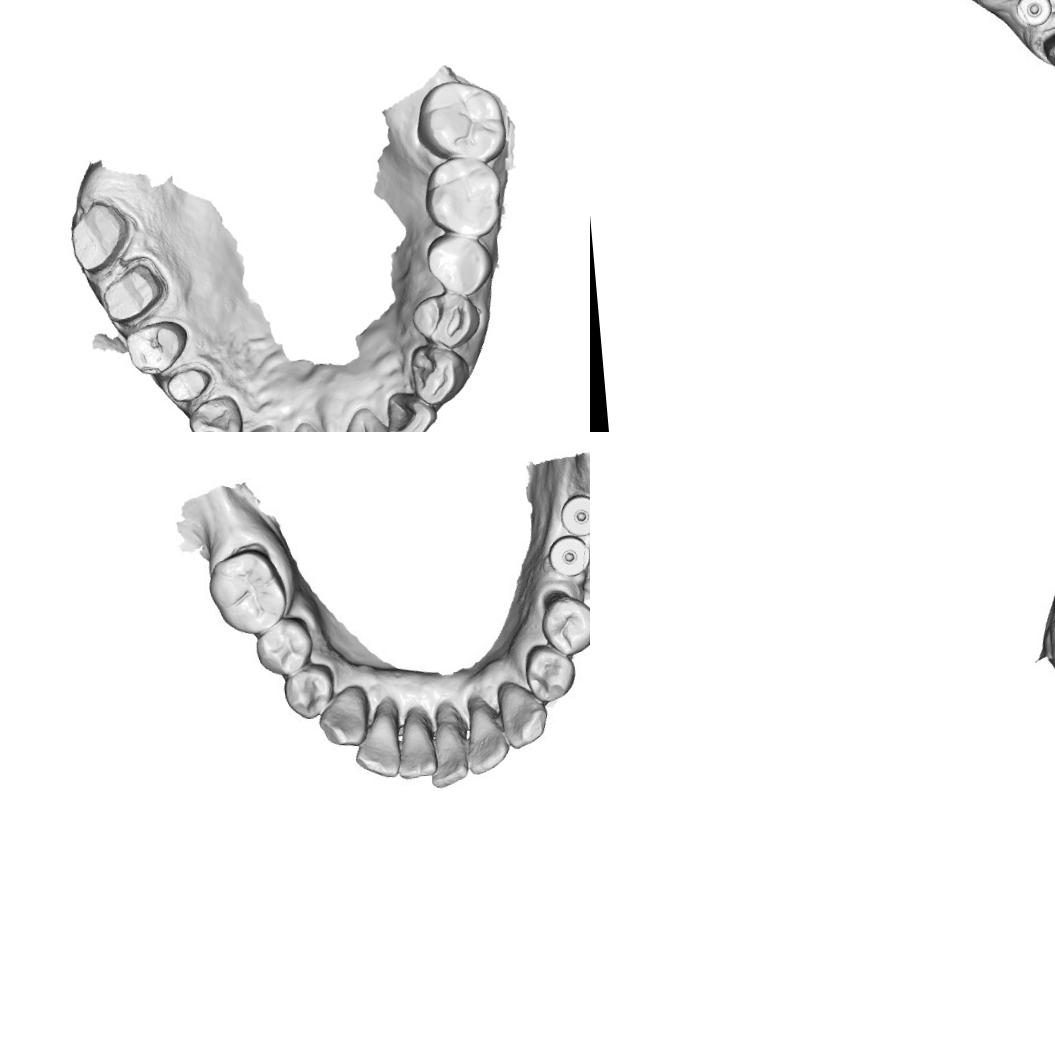canine: (405, 339, 472, 408), (498, 678, 551, 751), (315, 683, 371, 750), (184, 392, 245, 432)
crown: (65, 195, 137, 275), (96, 257, 170, 326), (156, 358, 216, 408), (1043, 16, 1055, 70)
implant: (548, 535, 589, 574), (556, 489, 590, 535), (1013, 0, 1055, 31)
incisor: (350, 693, 401, 783), (461, 702, 512, 778), (423, 718, 470, 792), (394, 708, 434, 780), (381, 387, 441, 432), (328, 401, 405, 432), (265, 416, 344, 432)
molar: (408, 71, 511, 168), (417, 152, 507, 242), (204, 546, 286, 637)
premolar: (406, 289, 484, 355), (422, 229, 494, 298), (120, 316, 192, 380), (250, 614, 314, 680), (534, 587, 590, 658), (520, 641, 577, 704), (278, 661, 334, 723)
